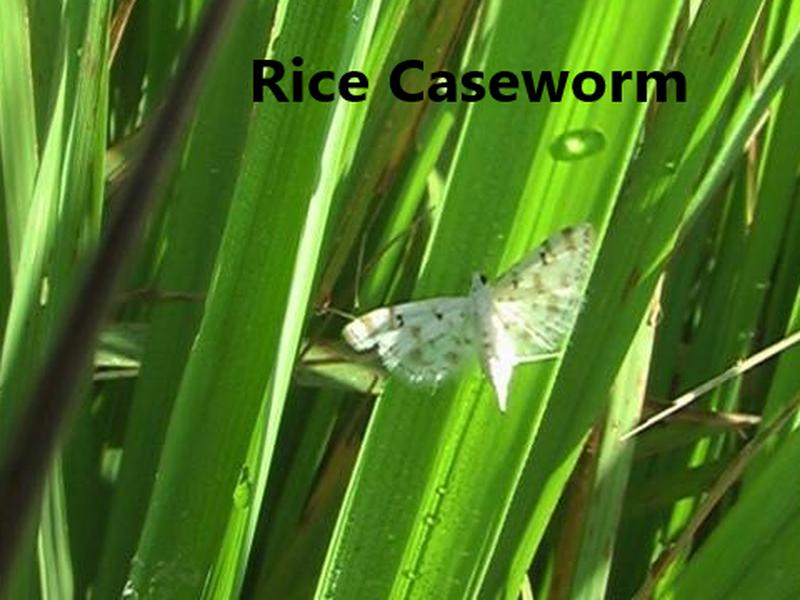Gall_midge: (329, 214, 612, 403)
